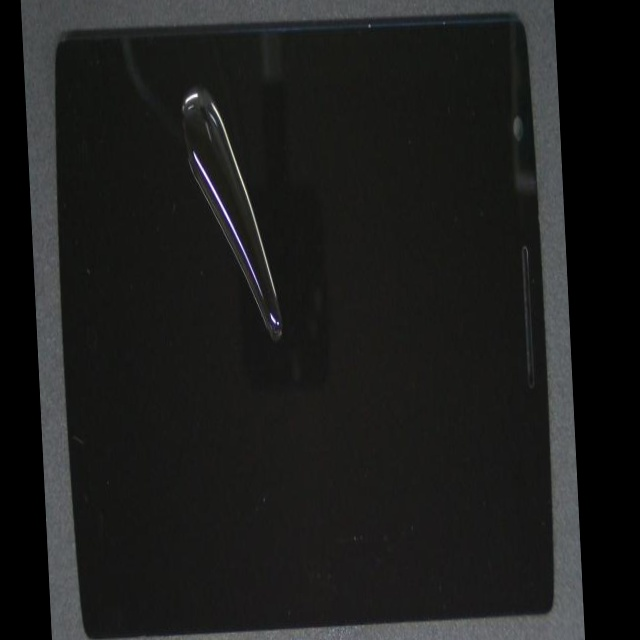oil: (150, 179, 416, 552)
